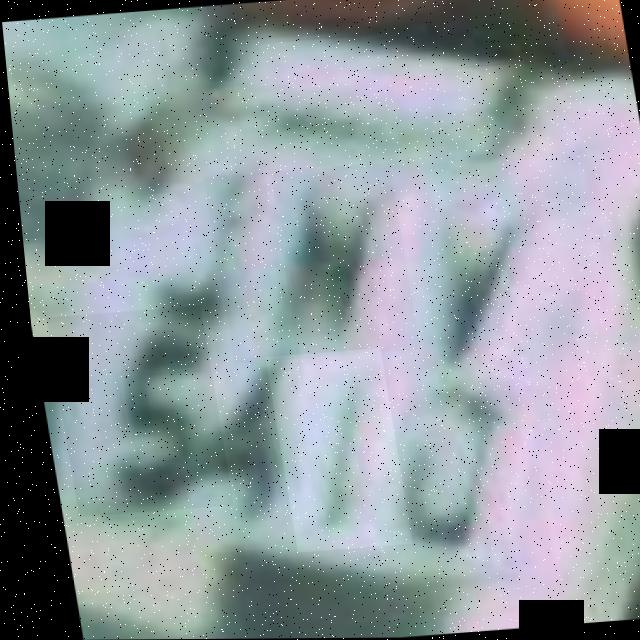0: (342, 359, 525, 574)
1: (257, 348, 401, 552)
4: (129, 312, 314, 530)
5: (39, 305, 224, 516)
N: (198, 162, 414, 363)
Y: (369, 178, 551, 394)
